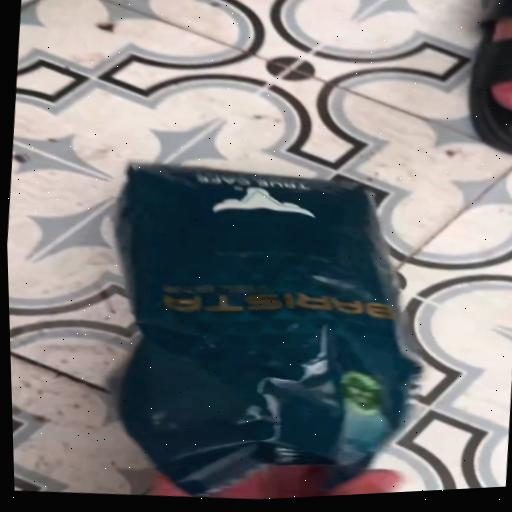cafe_hat: (117, 164, 417, 495)
